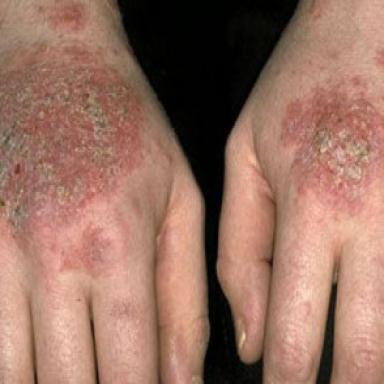eczema: (0, 3, 143, 253), (282, 75, 384, 215), (61, 228, 112, 276)
